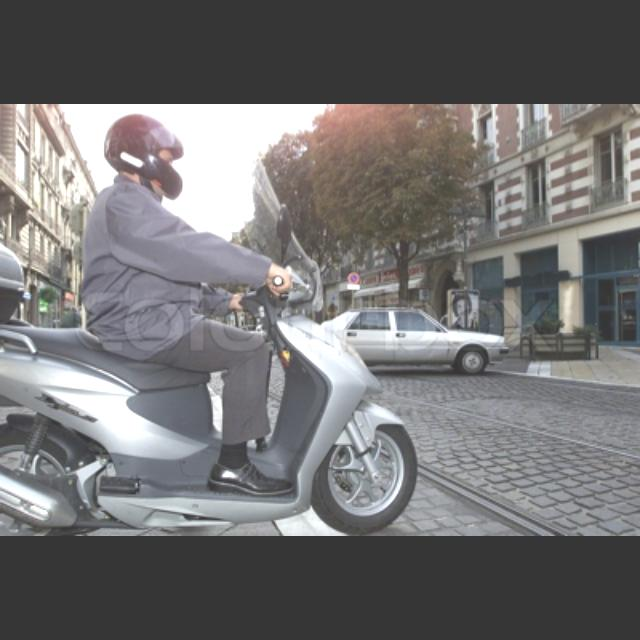With Helmet: (103, 110, 189, 204)
